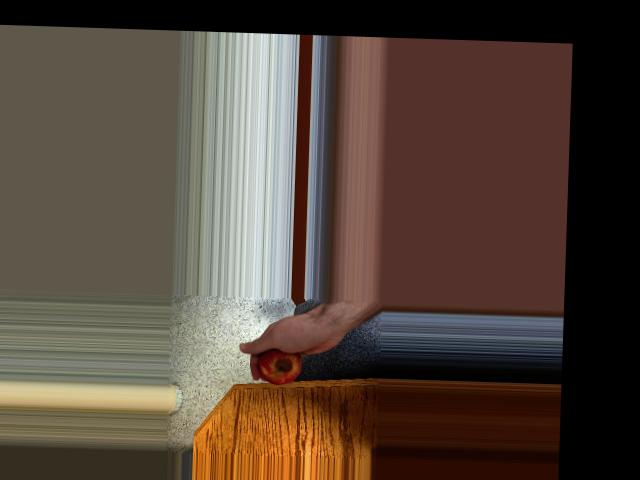apple: (254, 342, 312, 387)
